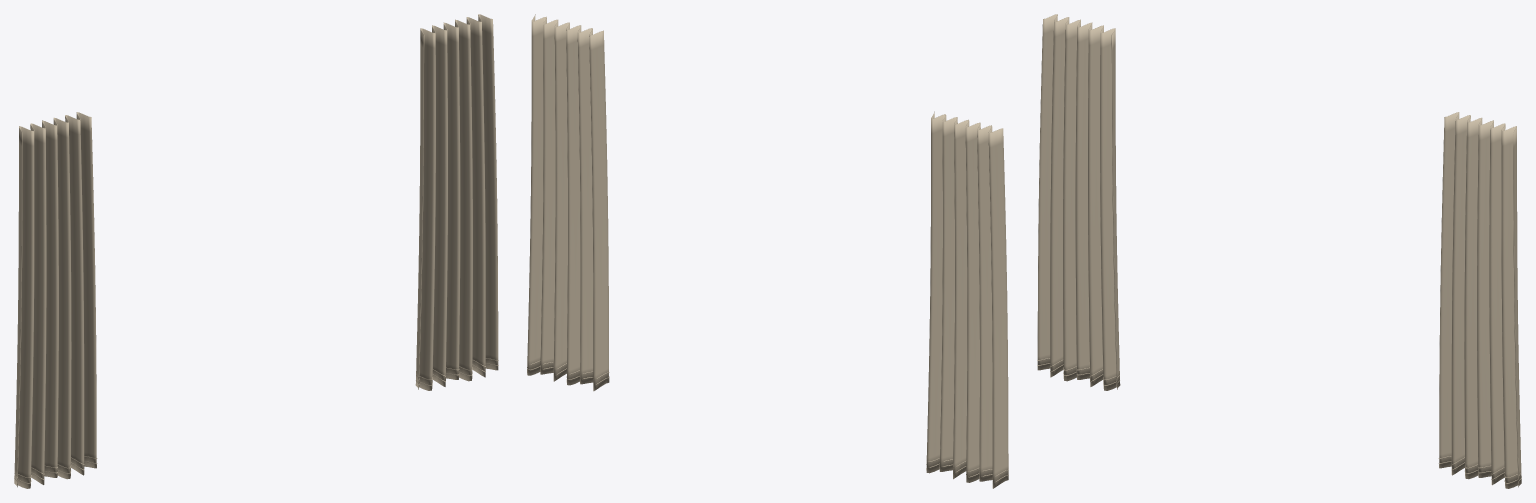
The model's file is curtains.glb.
The picture shows the model from 3 angles, left to right: view 1: azimuth 30°, elevation 25°; view 2: azimuth 150°, elevation 25°; view 3: azimuth 330°, elevation 25°; orthographic projection.
Parts seen in each view (by area): view 1: Linen curtain.001, Linen curtain; view 2: Linen curtain.001, Linen curtain; view 3: Linen curtain, Linen curtain.001.
Part boxes in pixels (x1=…): Linen curtain.001: x1=415, y1=14, x2=498, y2=390; Linen curtain: x1=14, y1=112, x2=96, y2=488; Linen curtain.001: x1=527, y1=14, x2=609, y2=391; Linen curtain: x1=926, y1=111, x2=1008, y2=488; Linen curtain: x1=1037, y1=14, x2=1120, y2=390; Linen curtain.001: x1=1439, y1=112, x2=1521, y2=488.
Bounding box in the file's own units: 3.41 × 2.42 × 0.13.
